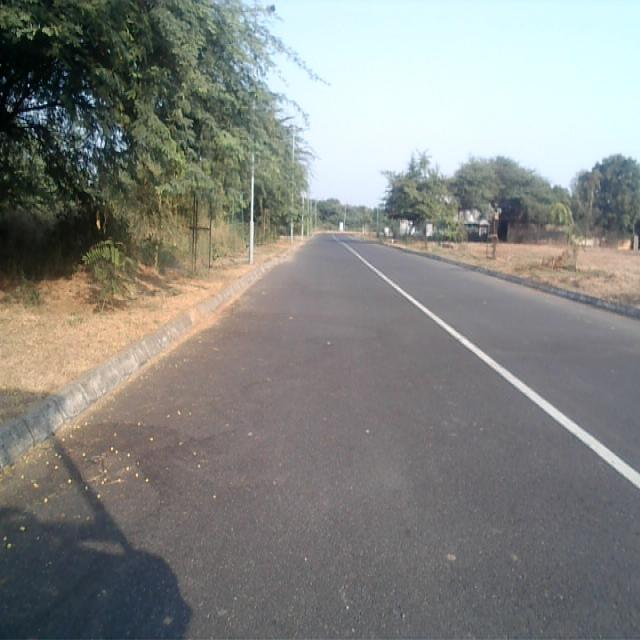lane: (0, 234, 640, 640)
